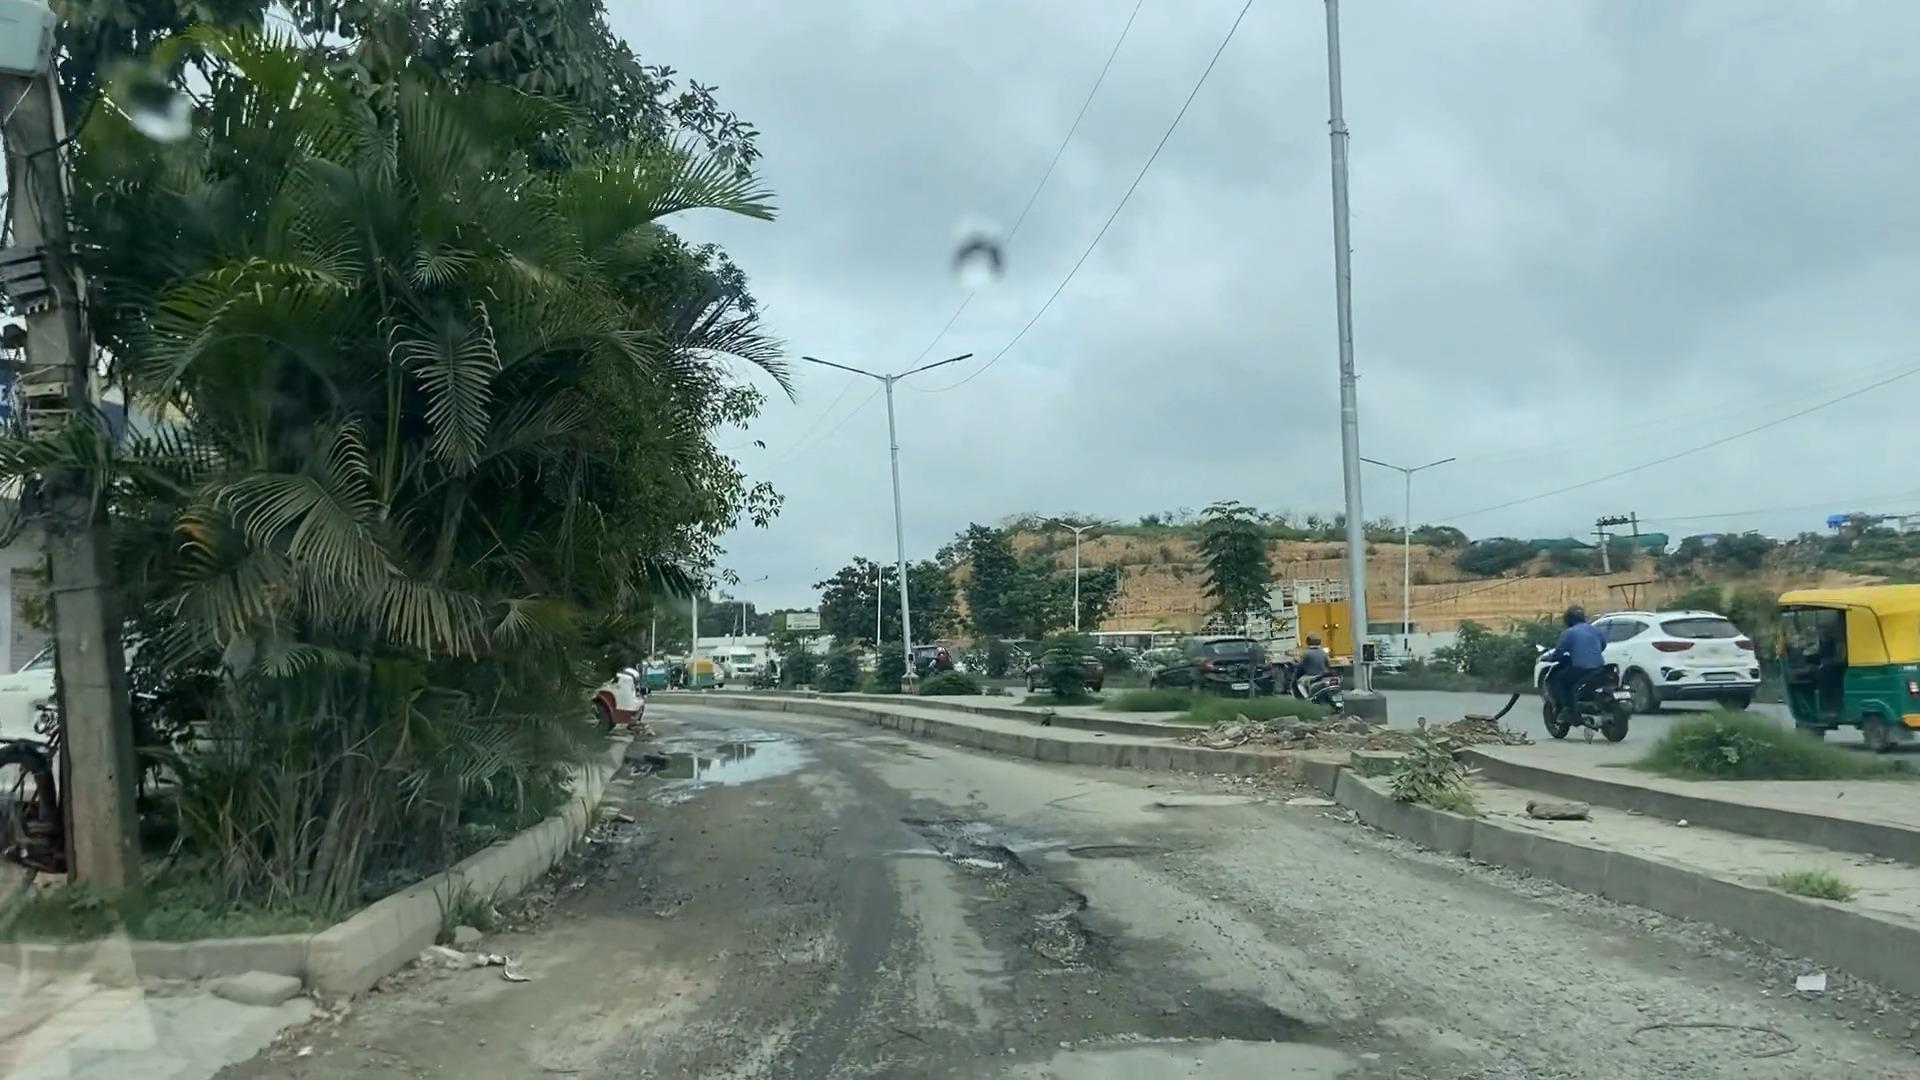RoadDamages: (930, 807, 1120, 989), (703, 997, 1102, 1080), (1117, 971, 1383, 1080)
